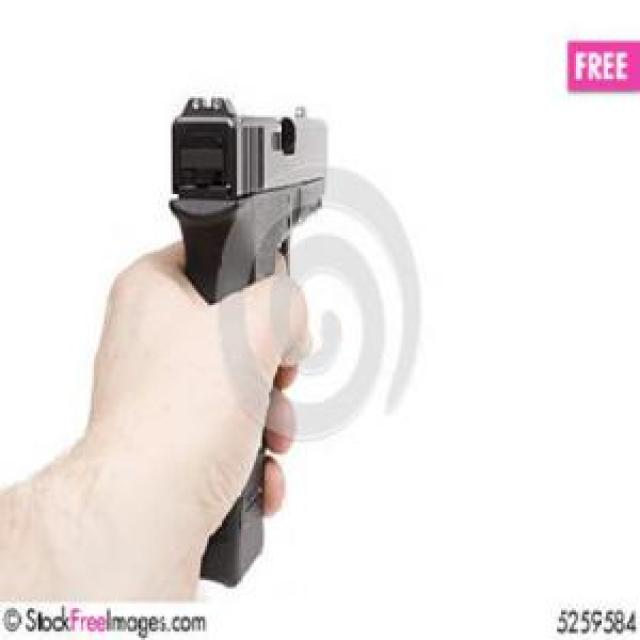pistol: (166, 85, 328, 590)
